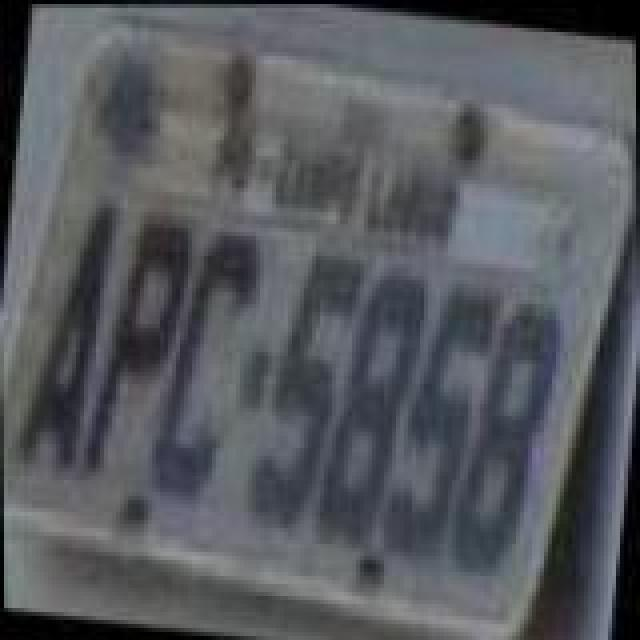5: (242, 240, 370, 536), (374, 278, 502, 570)
8: (306, 258, 434, 550), (442, 296, 570, 588)
A: (10, 194, 118, 478)
C: (142, 220, 266, 508)
P: (74, 210, 198, 490)
